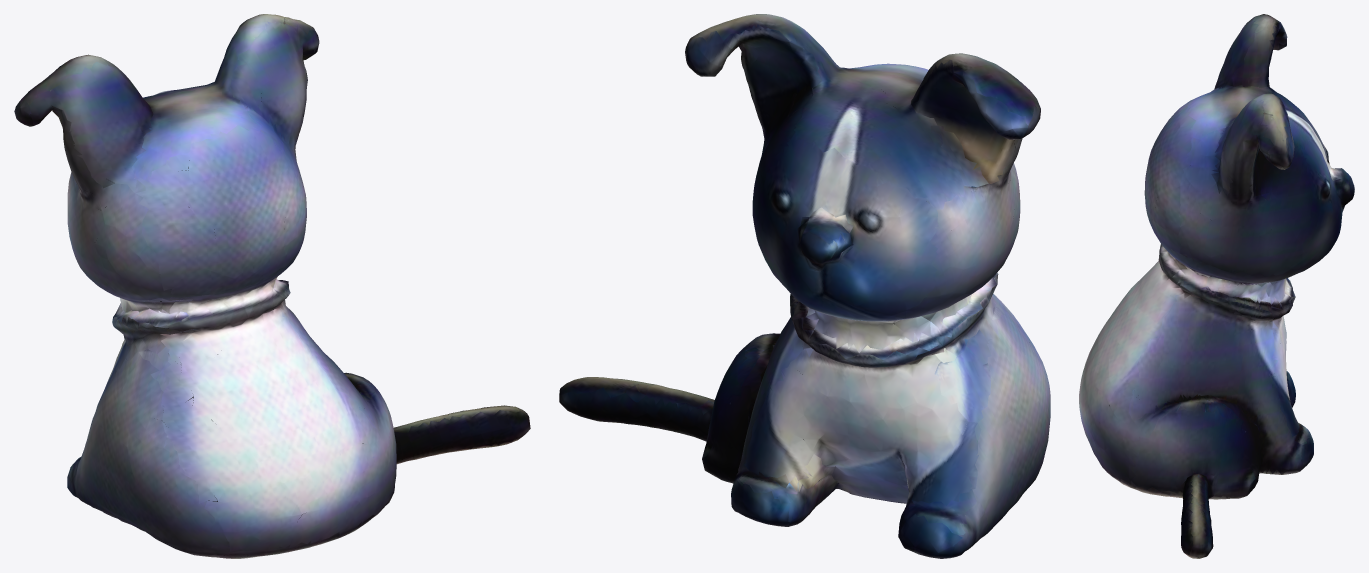
File: SPAR3D_result_20250709_161127.glb
3 views of the same model, side by side, from view 1: azimuth 30°, elevation 25°; view 2: azimuth 150°, elevation 25°; view 3: azimuth 270°, elevation 25° (orthographic). The views are drawn at different scales.
Parts seen in each view (by area): view 1: world; view 2: world; view 3: world.
Part boxes in pixels (box(x1,y1,x2,y2)): world: box(14, 14, 530, 558); world: box(559, 14, 1050, 558); world: box(1079, 14, 1354, 558).
Bounding box in the file's own units: 0.9841 × 0.9116 × 0.5888.
1 material, 1 textured.
